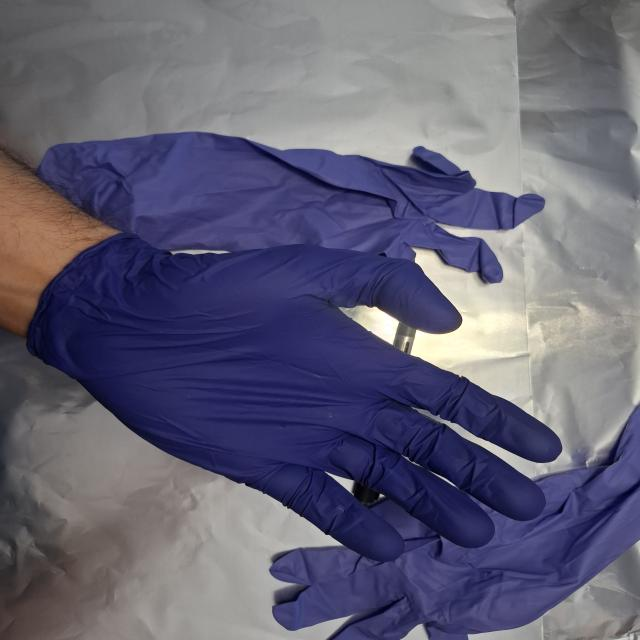glove_on: (32, 229, 568, 564)
